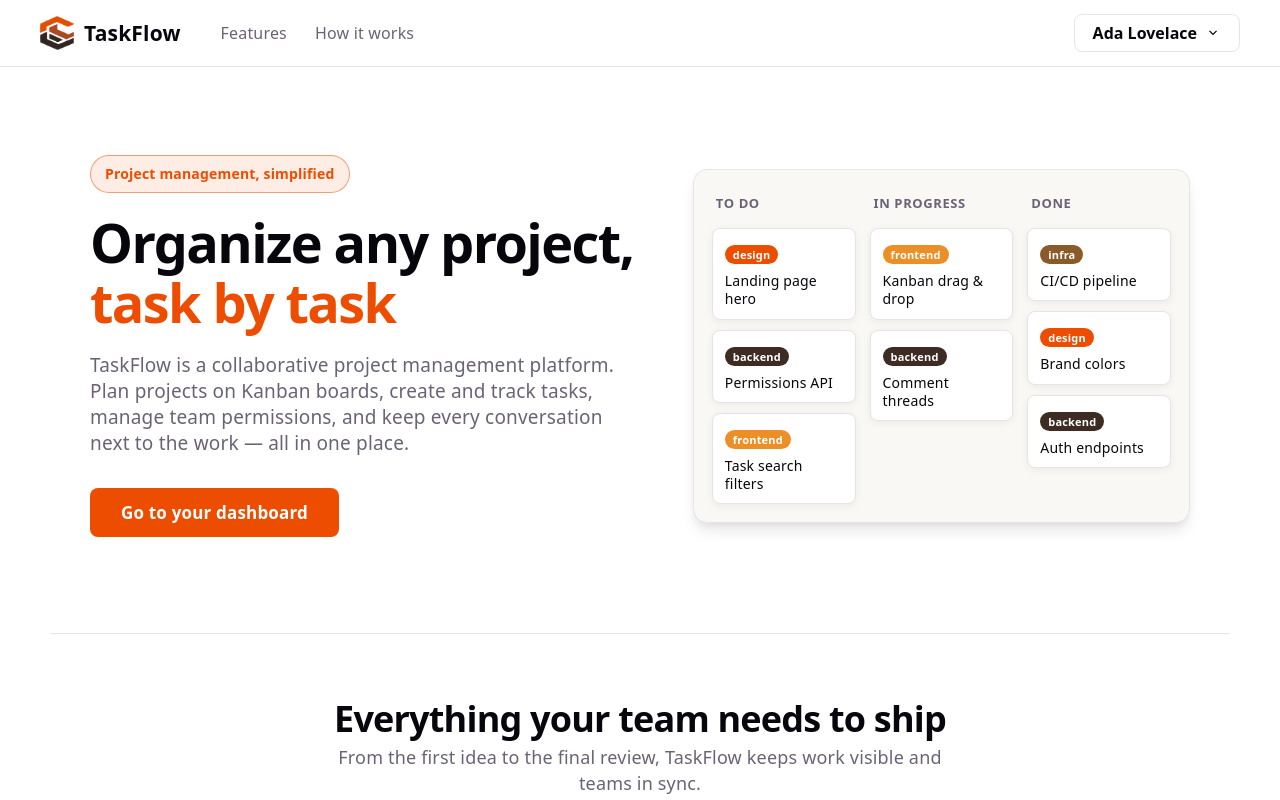
Test: LandingPage › when a user is logged in › logs out from the menu and shows the login buttons again
What coordinates should you click on to do the following:
click the button "Ada Lovelace"
I would click on:
 (1157, 33)
Its box is [1074, 14, 1240, 52].
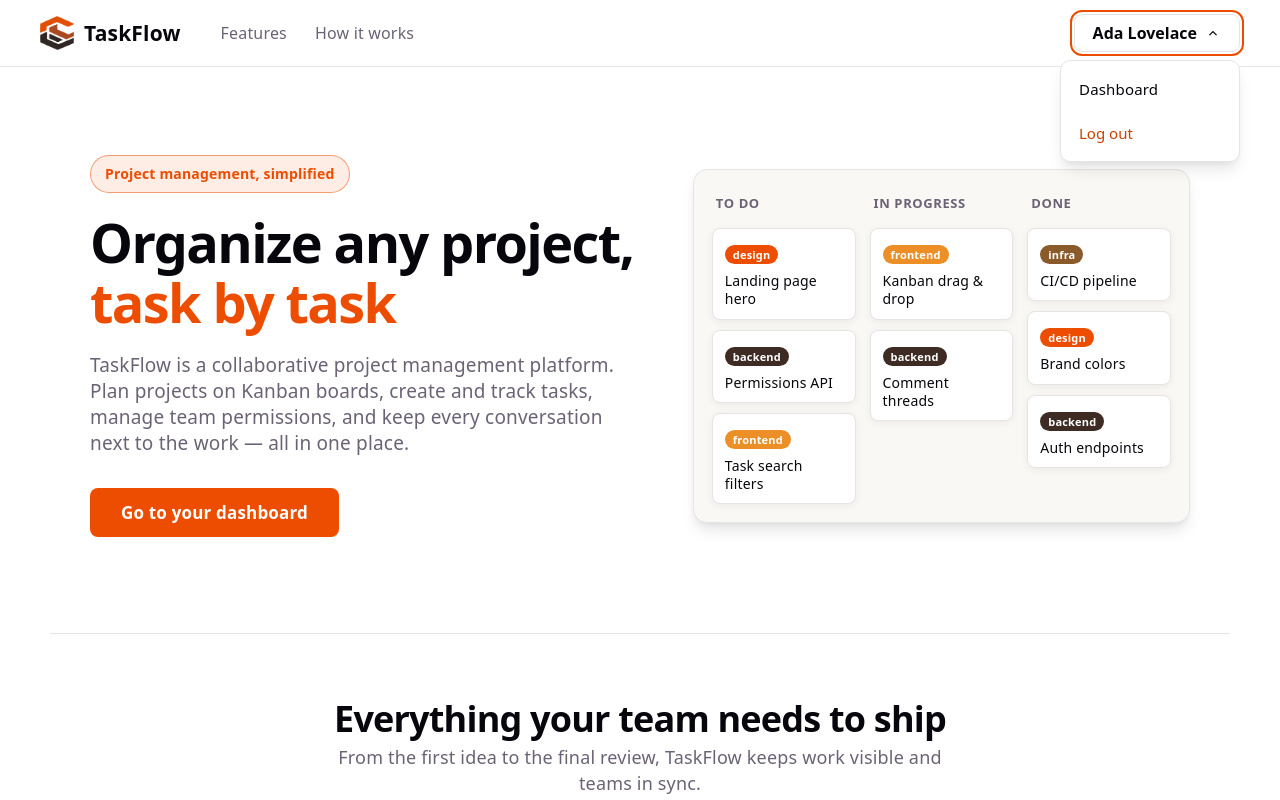
What coordinates should you click on to do the following:
click the menu item "Log out"
I would click on:
 (1150, 133)
Its box is [1067, 111, 1233, 155].
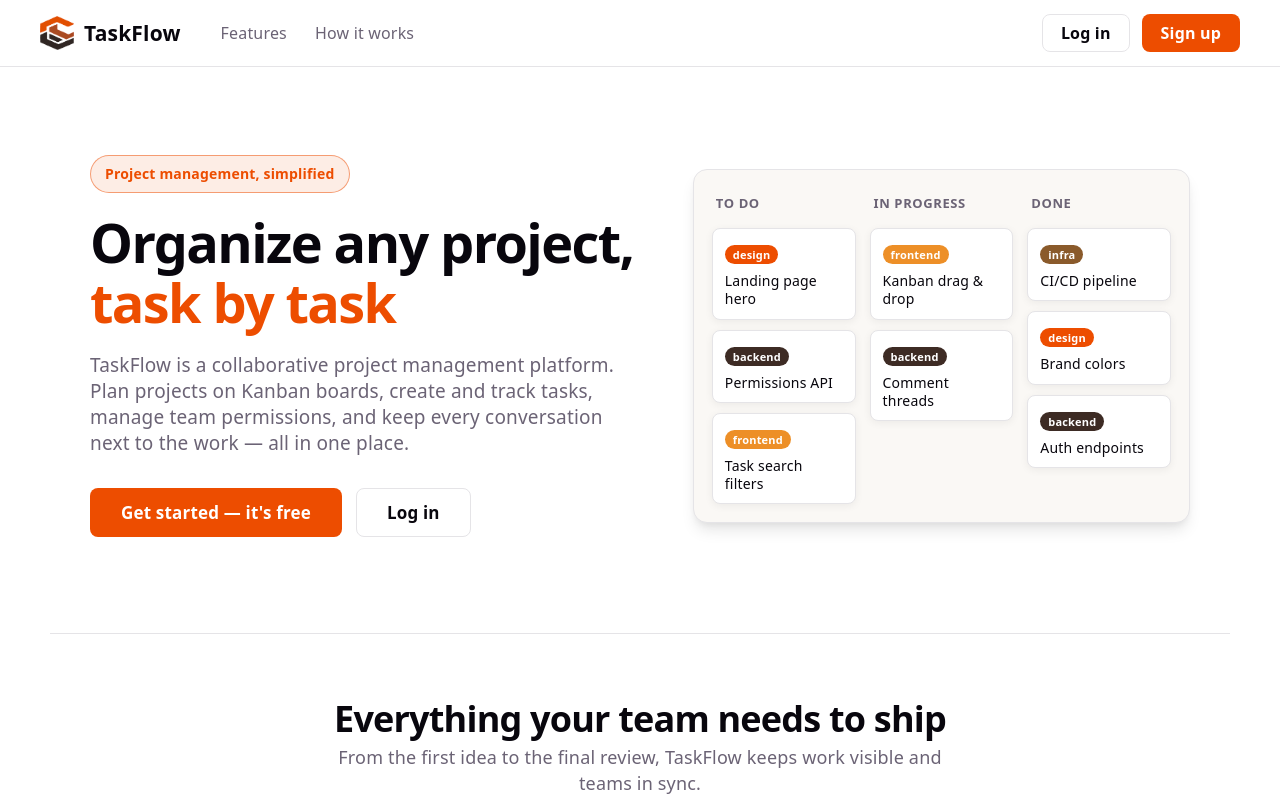
Result: the button "Ada Lovelace" is gone
